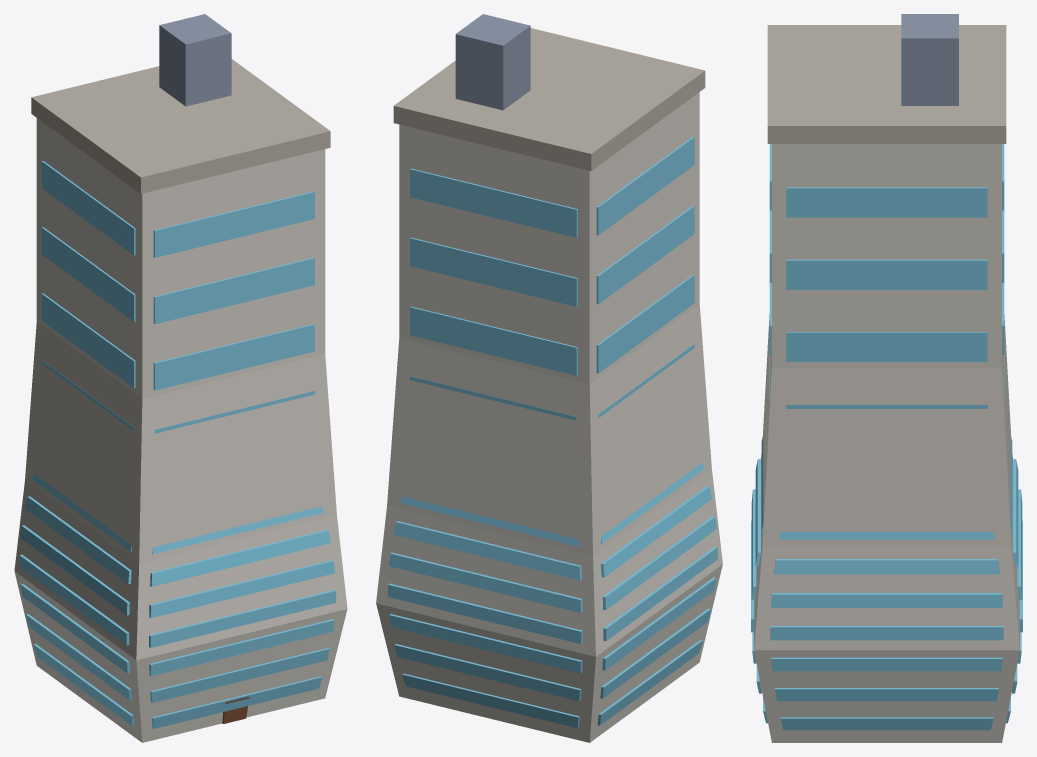
The model's file is tower_block.glb.
3 views of the same model, side by side, from view 1: azimuth 30°, elevation 25°; view 2: azimuth 150°, elevation 25°; view 3: azimuth 270°, elevation 25° (orthographic). The views are drawn at different scales.
Parts seen in each view (by area): view 1: tower_block_concrete, tower_block_window, tower_block_roof_flat, tower_block_metal; view 2: tower_block_concrete, tower_block_window, tower_block_roof_flat, tower_block_metal; view 3: tower_block_concrete, tower_block_window, tower_block_roof_flat, tower_block_metal.
Part boxes in pixels (x1,y1,x2,y2): tower_block_concrete: [14, 118, 347, 742]; tower_block_window: [19, 161, 336, 728]; tower_block_roof_flat: [31, 59, 330, 193]; tower_block_metal: [159, 14, 231, 106]; tower_block_concrete: [376, 92, 722, 742]; tower_block_window: [388, 136, 717, 728]; tower_block_roof_flat: [393, 28, 705, 170]; tower_block_metal: [455, 14, 530, 110]; tower_block_concrete: [754, 144, 1019, 742]; tower_block_window: [751, 144, 1022, 730]; tower_block_roof_flat: [767, 25, 1006, 143]; tower_block_metal: [901, 14, 958, 105].
Size of the model in its own units: 19.66 by 54.75 by 19.66.
